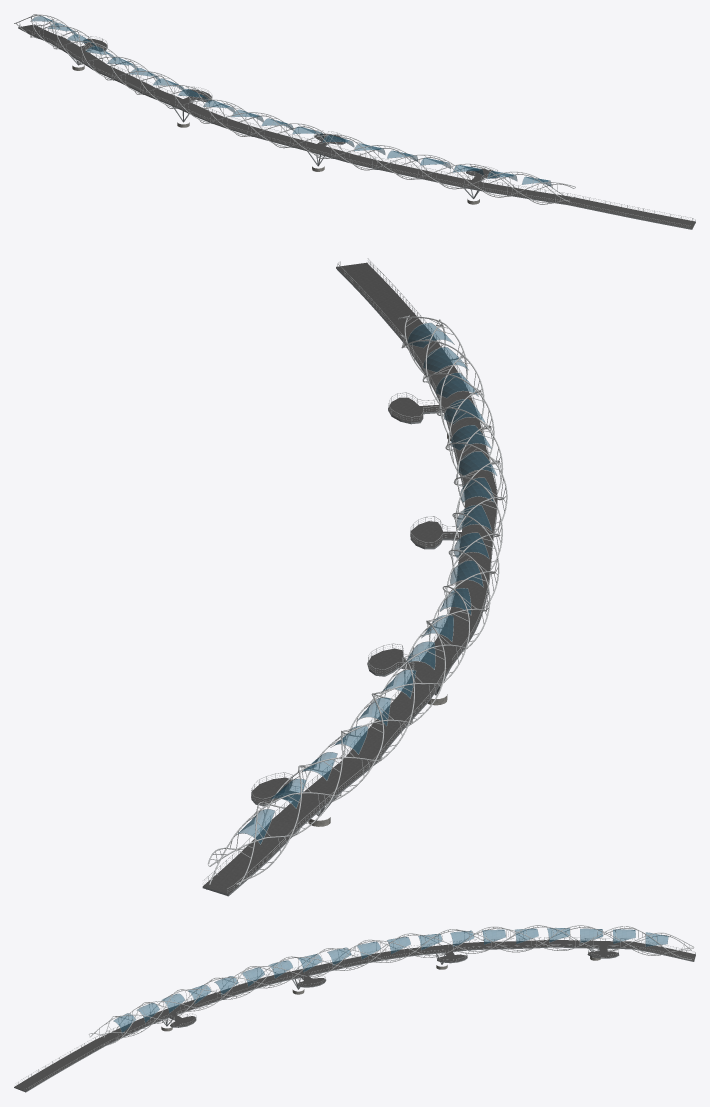
The picture shows the model from 3 angles, top to bottom: view 1: azimuth 30°, elevation 25°; view 2: azimuth 150°, elevation 25°; view 3: azimuth 270°, elevation 25°; orthographic projection. The views are drawn at different scales.
Visible parts, largest first — view 1: Asphalt wearing course, Duplex stainless steel, Fritted canopy, Deck edge and crossbeams; view 2: Asphalt wearing course, Duplex stainless steel, Fritted canopy, Deck edge and crossbeams; view 3: Asphalt wearing course, Duplex stainless steel, Fritted canopy, Deck edge and crossbeams.
Boxes of the visible parts, bbox=[...] form: Asphalt wearing course: bbox=[18, 24, 695, 228]; Duplex stainless steel: bbox=[14, 14, 693, 227]; Fritted canopy: bbox=[32, 16, 551, 186]; Deck edge and crossbeams: bbox=[18, 23, 695, 229]; Asphalt wearing course: bbox=[203, 262, 497, 894]; Duplex stainless steel: bbox=[203, 258, 507, 892]; Fritted canopy: bbox=[238, 323, 496, 843]; Deck edge and crossbeams: bbox=[202, 261, 497, 896]; Asphalt wearing course: bbox=[14, 940, 695, 1091]; Duplex stainless steel: bbox=[15, 925, 694, 1088]; Fritted canopy: bbox=[114, 928, 668, 1033]; Deck edge and crossbeams: bbox=[14, 938, 695, 1092].
Bounding box in the file's own units: 137 × 16.35 × 281.
Materials: 7 (7 with a texture image).
